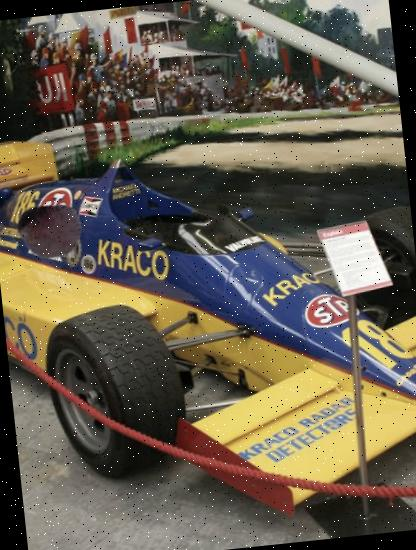Salak: (13, 196, 86, 269)
